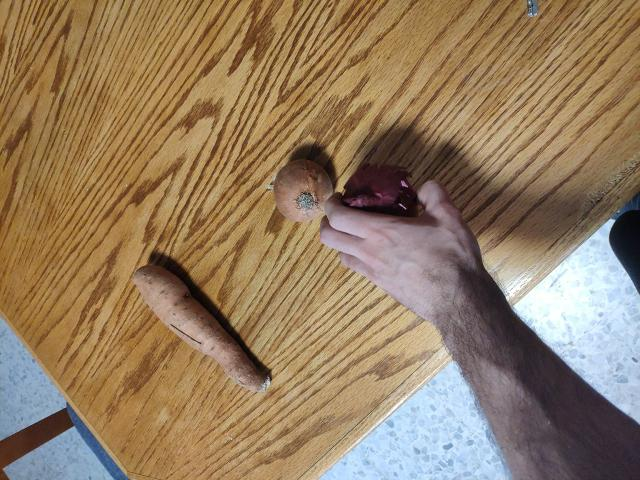onion: (339, 164, 406, 231)
